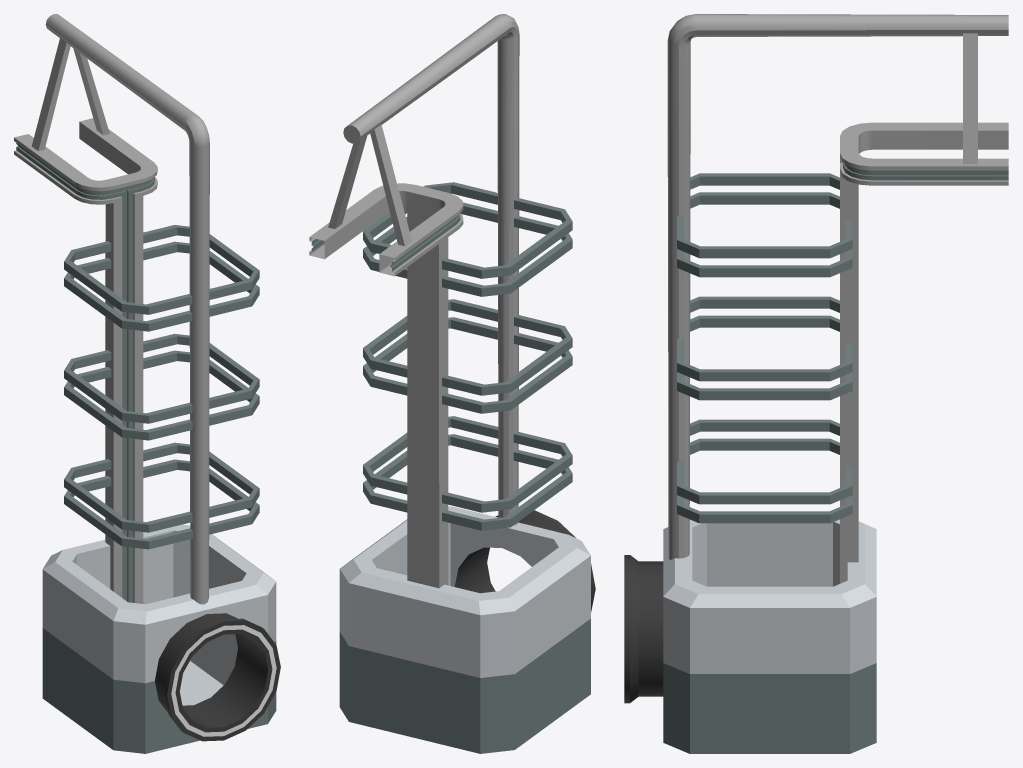
File: Bridge.fbx
The picture shows the model from 3 angles, left to right: view 1: azimuth 30°, elevation 25°; view 2: azimuth 150°, elevation 25°; view 3: azimuth 270°, elevation 25°; orthographic projection. The views are drawn at different scales.
Parts seen in each view (by area): view 1: Bridge; view 2: Bridge; view 3: Bridge.
Part boxes in pixels (bbox=[...]): Bridge: bbox=[14, 14, 280, 753]; Bridge: bbox=[309, 14, 595, 753]; Bridge: bbox=[624, 14, 1008, 753].
Bounding box in the file's own units: 53.99 × 194 × 97.58.
